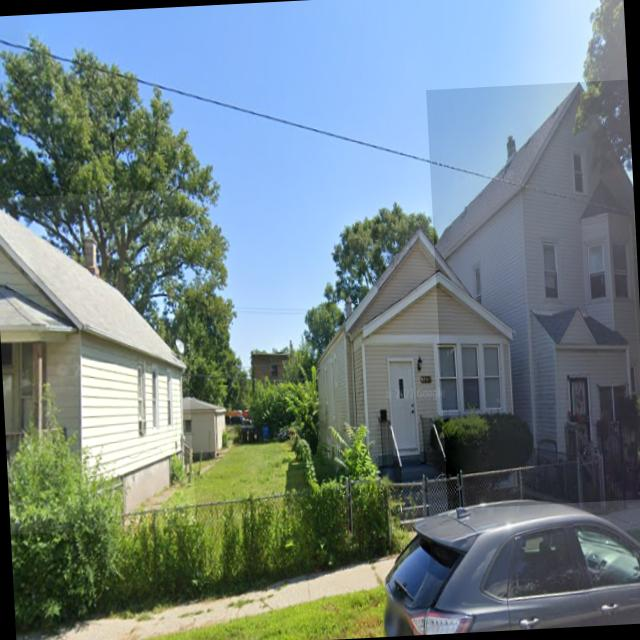House: (426, 79, 640, 509), (0, 190, 196, 535), (306, 221, 522, 506)
